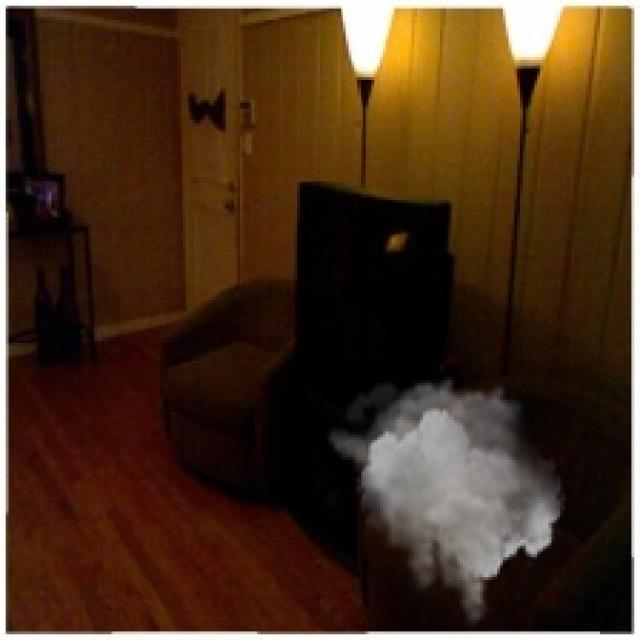smoke: (326, 374, 566, 629)
